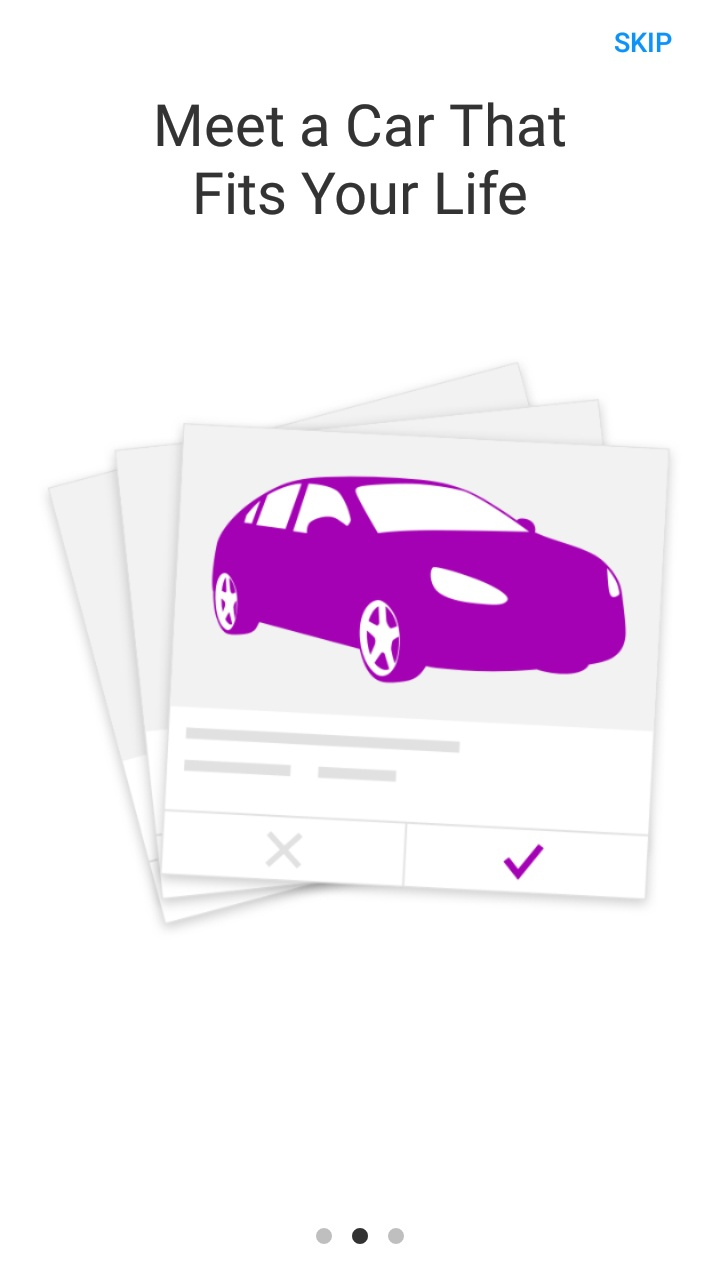Image: (48, 362, 671, 925)
PageIndicator: (315, 1227, 405, 1245)
Text: (157, 102, 566, 217), (614, 32, 672, 54)
